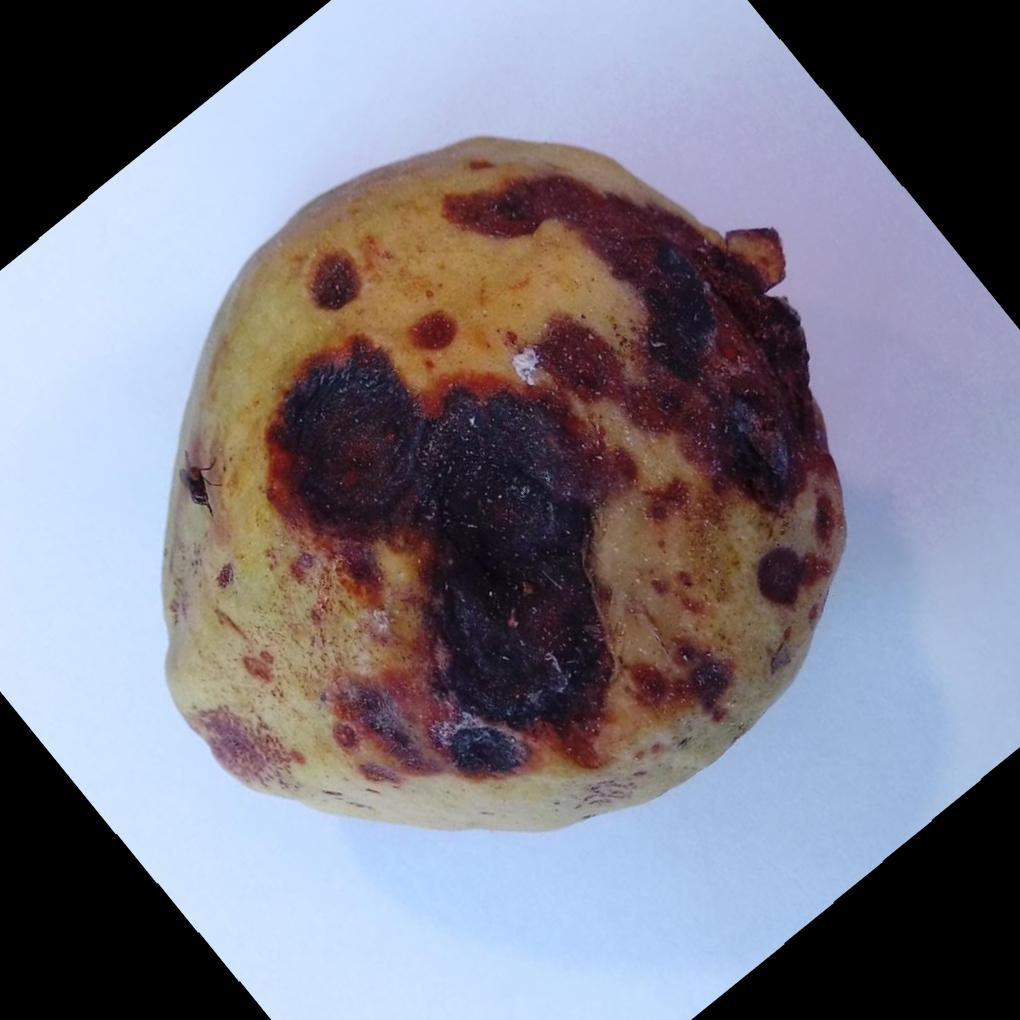FreshOrange: (161, 131, 852, 832)
